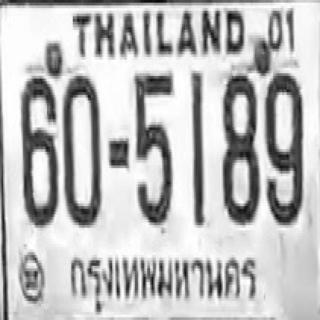N00: (63, 73, 101, 225)
N01: (190, 68, 204, 225)
N05: (134, 69, 173, 224)
N06: (21, 73, 58, 225)
N08: (221, 71, 258, 222)
N09: (264, 71, 302, 222)
P04: (66, 244, 264, 318)
